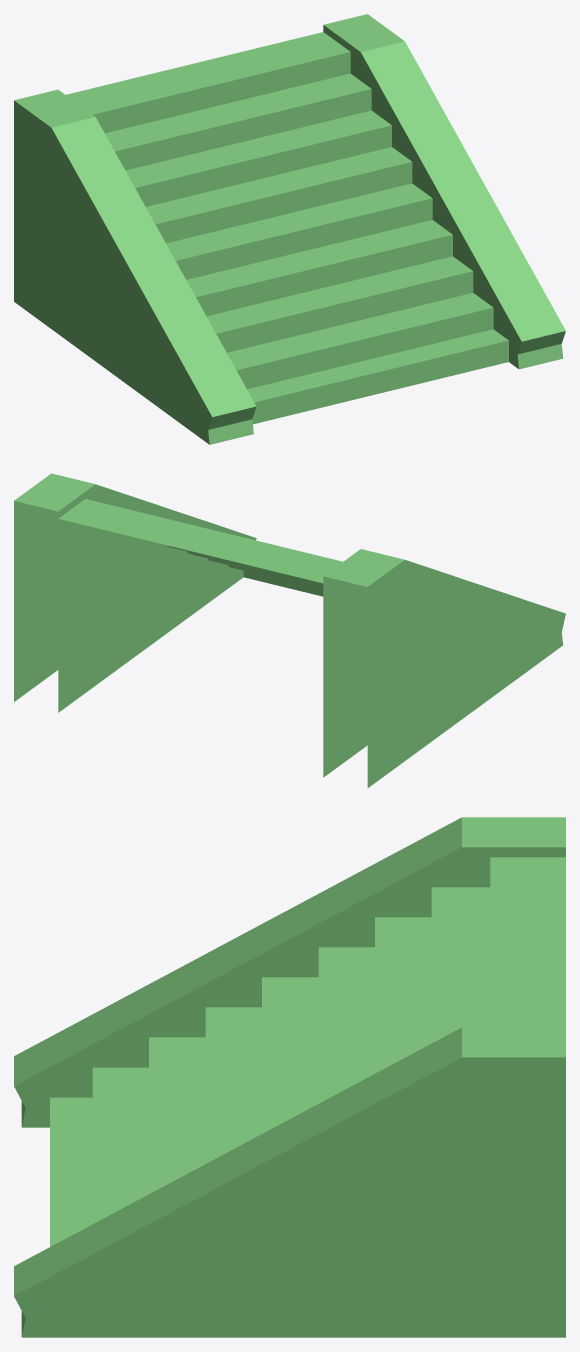
File: Bld3_Base_Staircase_A.fbx
3 renders of one model, top to bottom at view 1: azimuth 30°, elevation 25°; view 2: azimuth 150°, elevation 25°; view 3: azimuth 270°, elevation 25°, orthographic. The views are drawn at different scales.
Visible parts, largest first — view 1: Bld3_Base_Staircase_A; view 2: Bld3_Base_Staircase_A; view 3: Bld3_Base_Staircase_A.
Boxes of the visible parts, x1,y1,x2,y2 form: Bld3_Base_Staircase_A: [14, 14, 565, 444]; Bld3_Base_Staircase_A: [14, 473, 565, 787]; Bld3_Base_Staircase_A: [14, 817, 565, 1337].
Size of the model in its own units: 300 by 163 by 292.
